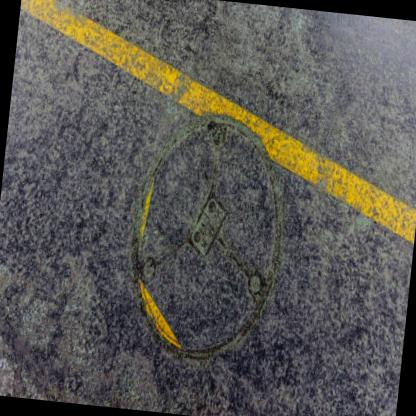manholes: (108, 89, 317, 380)
